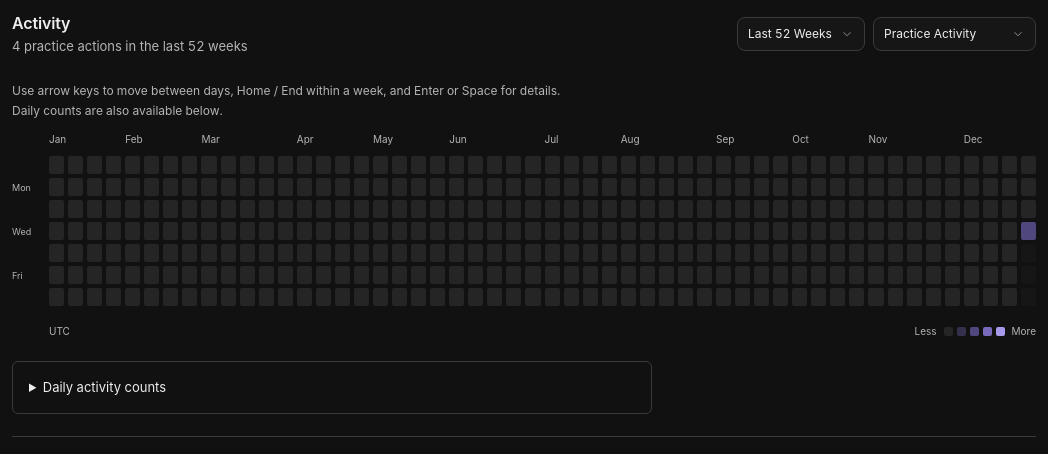
Scenario: calendar semantics › does not present an unsynchronized GitHub account as zero contributions
Select "GitHub contributions" in the 2nd dropdown named "Activity dataset" at (954, 34), box [873,17,1036,51]
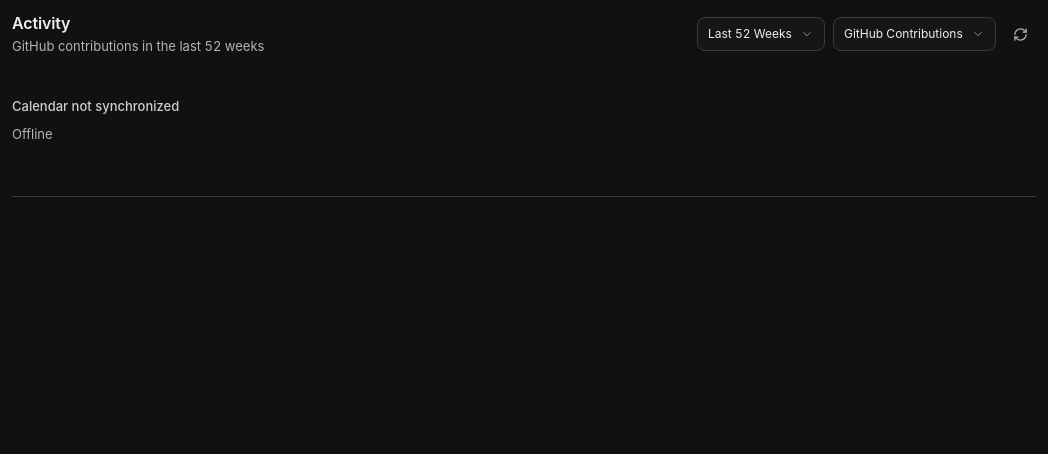
expect the text "Calendar not synchronized" is shown: met, box [12,97,179,116]
expect the text "Offline" is shown: met, box [12,124,53,146]
